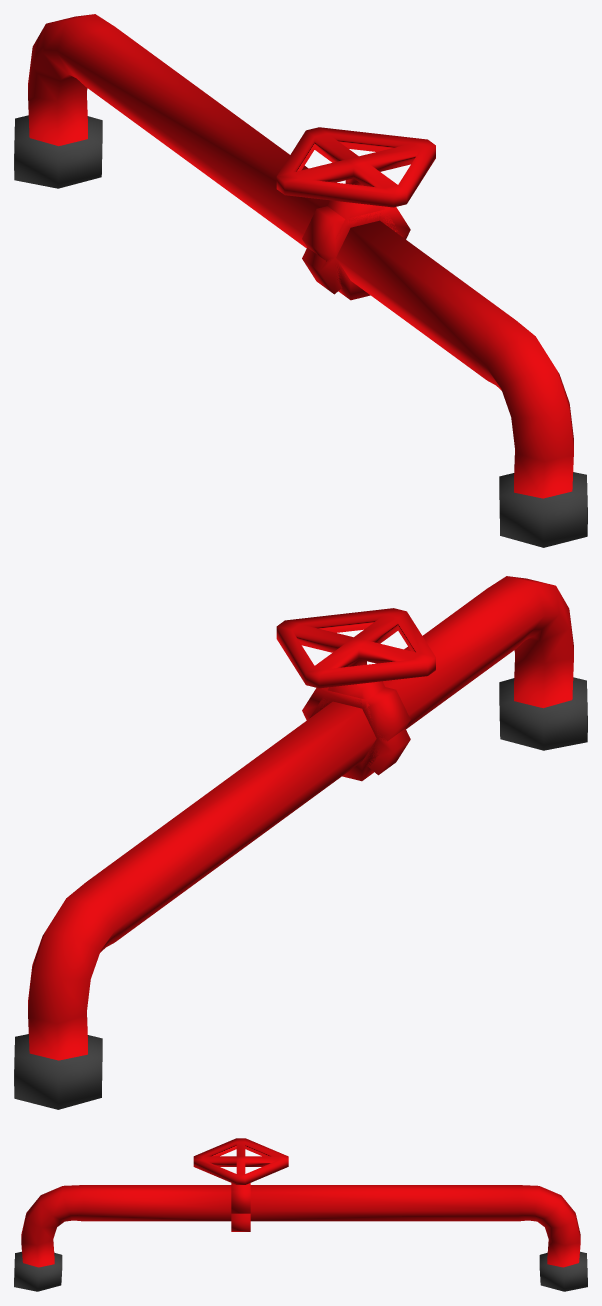
File: CanoVermelho.dae
3 renders of one model, top to bottom at view 1: azimuth 30°, elevation 25°; view 2: azimuth 150°, elevation 25°; view 3: azimuth 270°, elevation 25°, orthographic. The views are drawn at different scales.
Visible parts, largest first — view 1: Cylinder; view 2: Cylinder; view 3: Cylinder.
Part boxes in pixels (box(x1,y1,x2,y2)): Cylinder: box(14, 14, 587, 547); Cylinder: box(14, 576, 587, 1109); Cylinder: box(14, 1138, 587, 1291).
Size of the model in its own units: 11.7 by 71.04 by 16.88.
